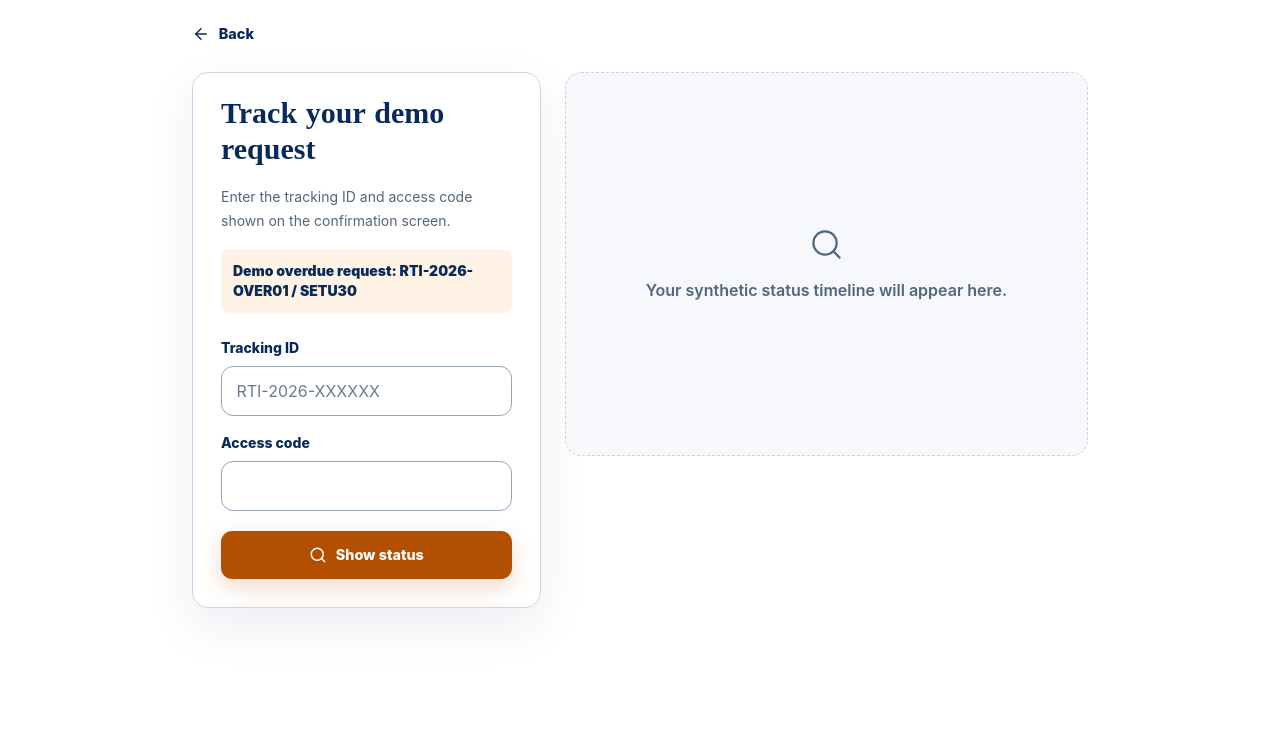
Test: status tracking and First Appeal › does not reveal an application with the wrong access code
The image size is (1280, 732).
Type "RTI-2026-OVER01" into the field labelled "Tracking ID" at point(366, 391), box top-left (221, 366), bottom-right (512, 416)
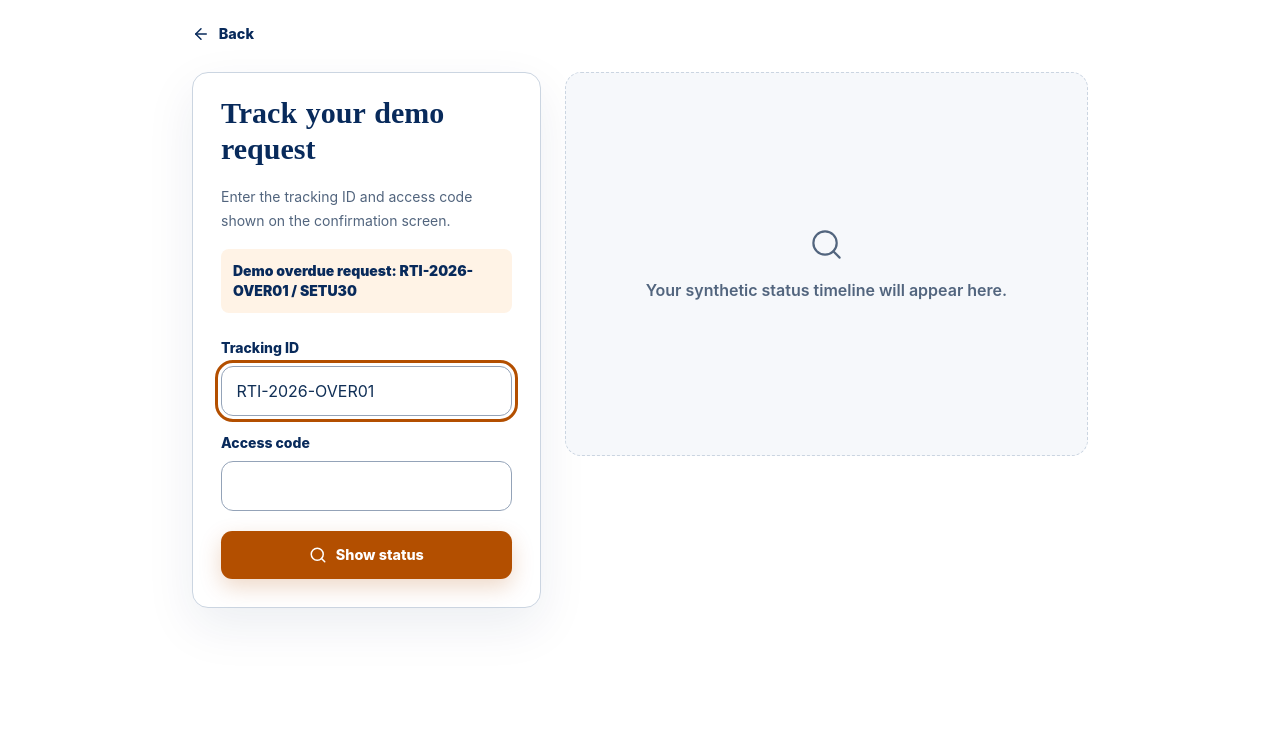
Type "WRONG1" into the field labelled "Access code" at point(366, 486), box top-left (221, 461), bottom-right (512, 511)
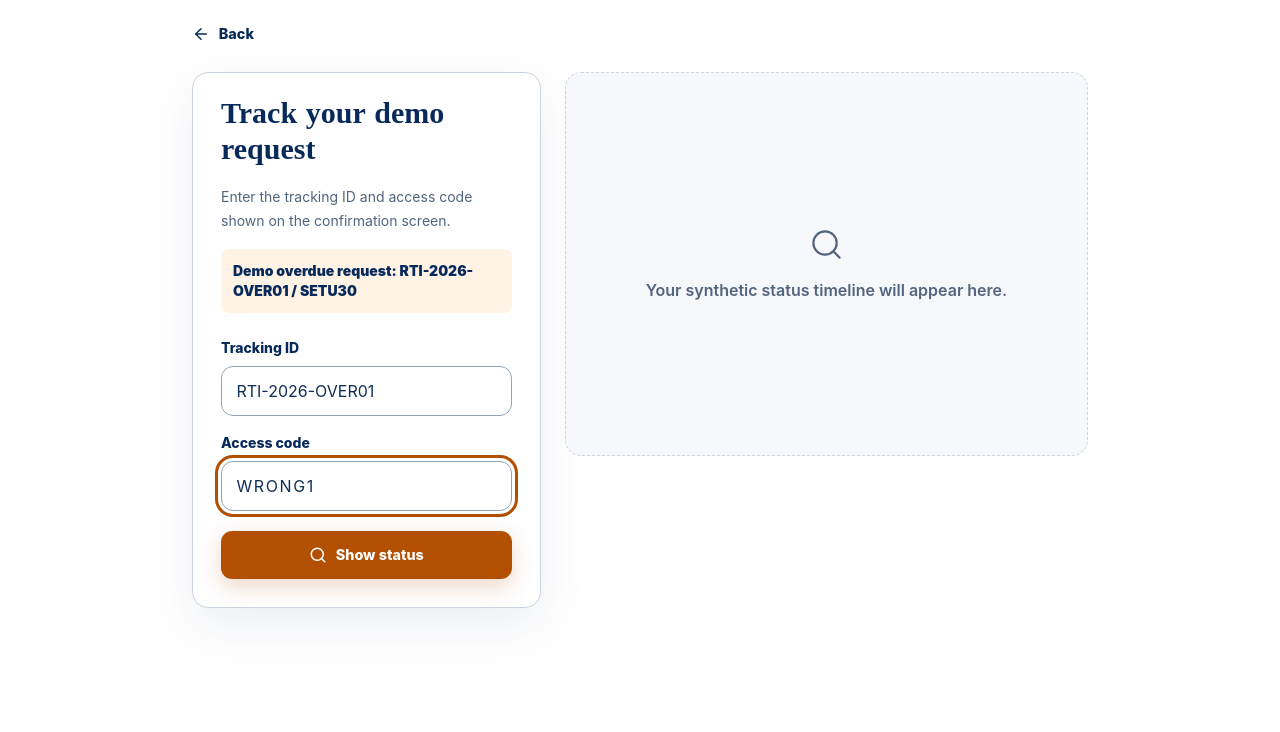
Click the button "Show status" at point(366, 555), box top-left (221, 531), bottom-right (512, 579)
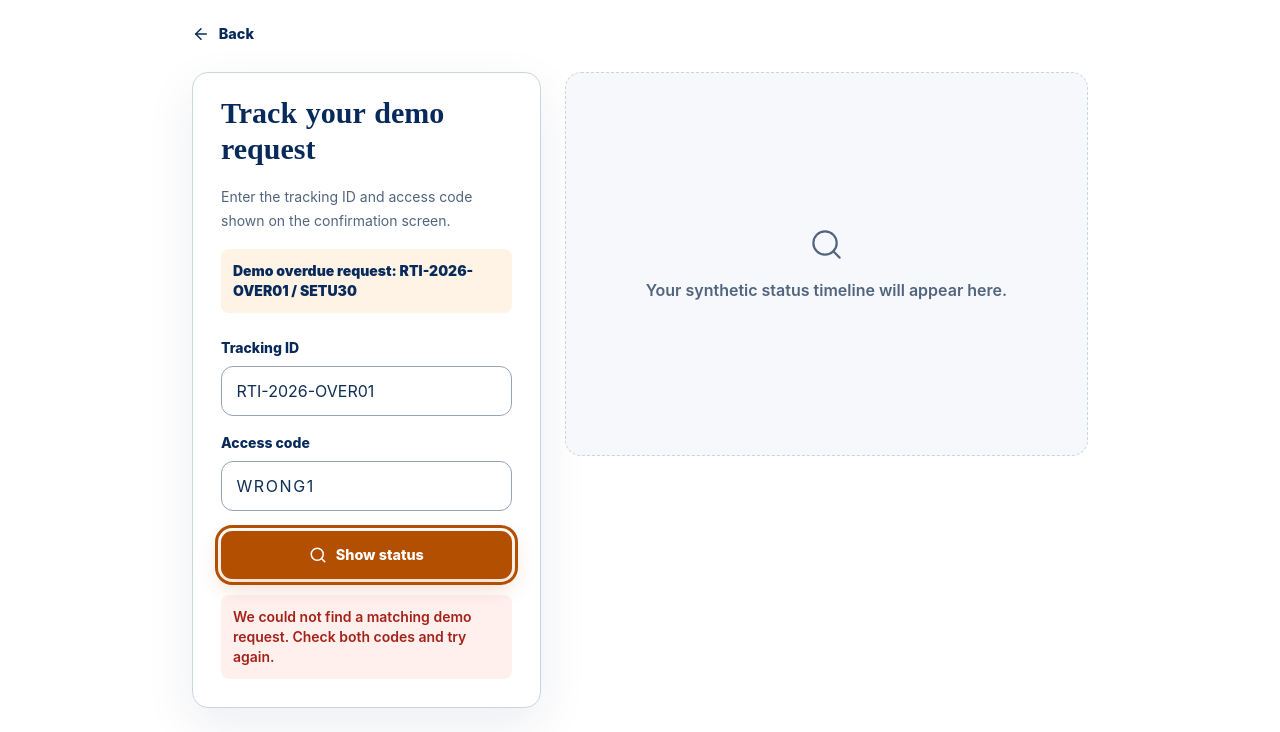
Expected: the message shows "We could not find a matching demo request.", top-left (233, 608), bottom-right (472, 665)
